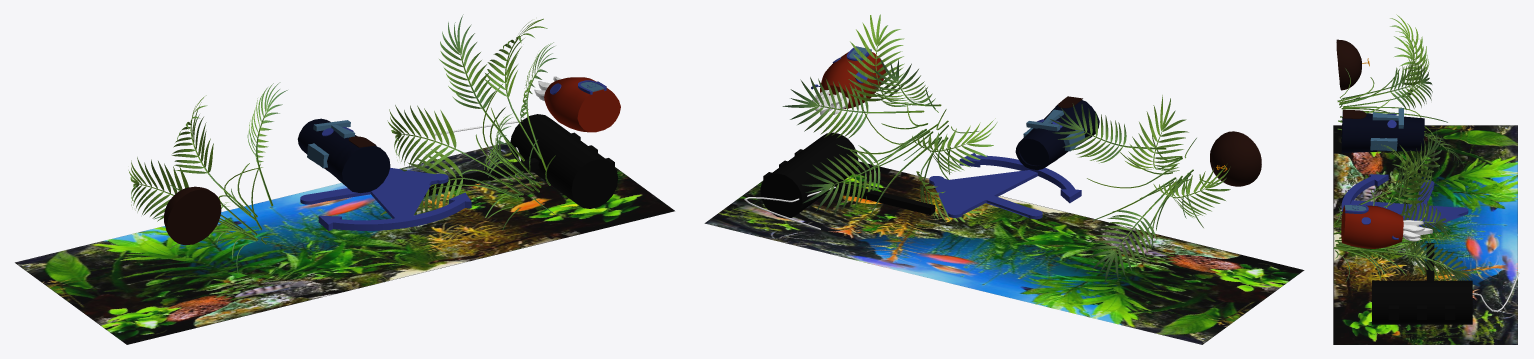
Rendered from Akvariumset.FBX.
The picture shows the model from 3 angles, left to right: view 1: azimuth 30°, elevation 25°; view 2: azimuth 150°, elevation 25°; view 3: azimuth 270°, elevation 25°; orthographic projection. The views are drawn at different scales.
Visible parts, largest first — view 1: Plane001, Blat5, Cylinder001, Assembly001, Blat006, 963,, as, s001, asdx; view 2: Plane001, Blat5, Blat006, Cylinder001, Assembly001, 963,, s001, as, asdx; view 3: Plane001, Cylinder001, Blat5, Blat006, 963,, as, Assembly001, s001, asdx, 2eres, asdg, Line001.
Part boxes in pixels (x1,y1,x2,y2): Plane001: (15, 141, 674, 344); Blat5: (380, 14, 556, 231); Cylinder001: (424, 114, 618, 208); Assembly001: (300, 136, 471, 230); Blat006: (128, 82, 287, 274); 963,: (297, 118, 390, 193); as: (544, 77, 620, 132); s001: (164, 186, 221, 244); asdx: (307, 120, 355, 168); Plane001: (704, 161, 1304, 344); Blat5: (782, 14, 997, 222); Blat006: (1050, 95, 1230, 282); Cylinder001: (760, 132, 935, 218); Assembly001: (929, 96, 1082, 219); 963,: (1015, 100, 1099, 169); s001: (1210, 131, 1261, 186); as: (820, 52, 885, 108); asdx: (1023, 109, 1085, 151); Plane001: (1333, 125, 1517, 344); Cylinder001: (1372, 243, 1472, 324); Blat5: (1333, 128, 1474, 292); Blat006: (1337, 14, 1464, 169); 963,: (1341, 111, 1424, 153); as: (1341, 205, 1403, 248); Assembly001: (1341, 109, 1468, 228); s001: (1336, 39, 1361, 90); asdx: (1370, 108, 1403, 150); 2eres: (1403, 220, 1432, 241); asdg: (1344, 204, 1398, 239); Line001: (1472, 272, 1519, 312).
Size of the model in its own units: 77.04 by 26.11 by 27.59.
9 materials, 2 textured.
